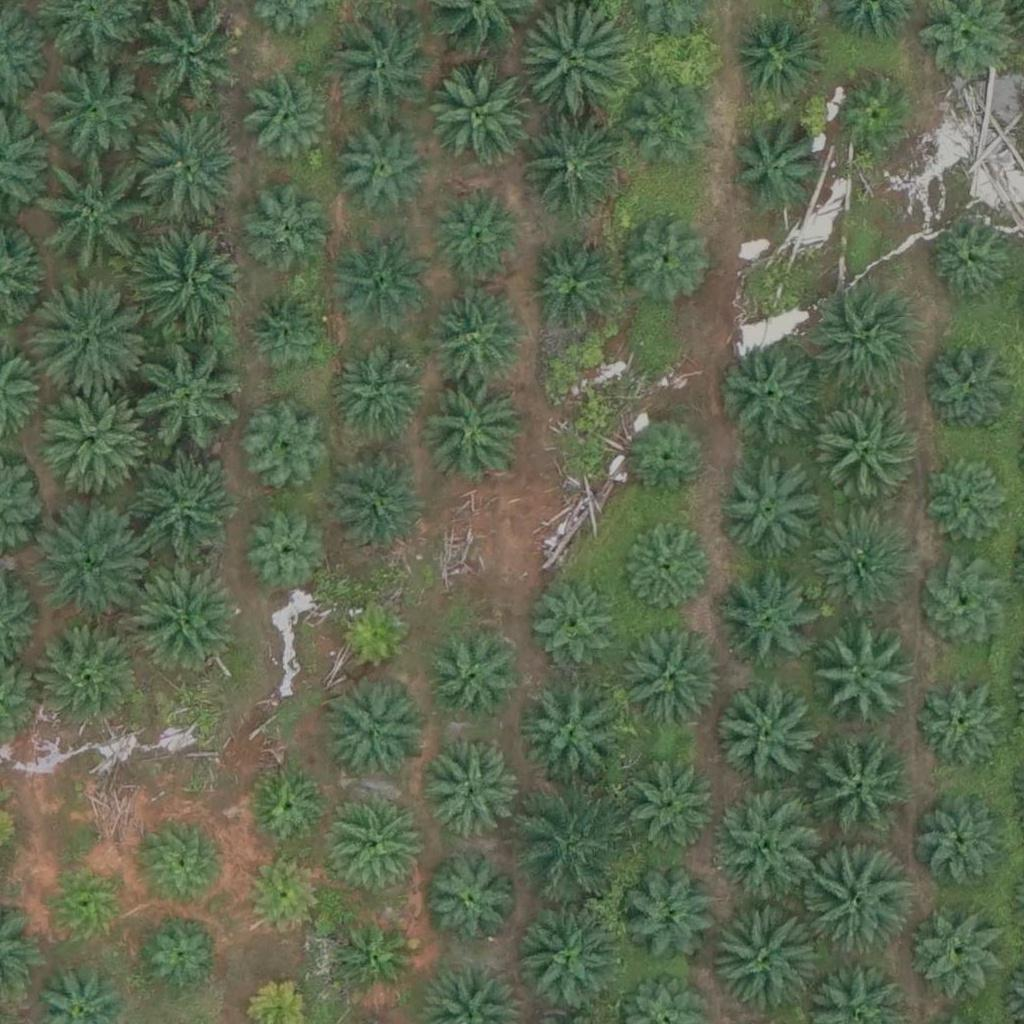Kelapa_Sawit: (37, 288, 150, 402), (710, 793, 823, 906), (513, 674, 626, 787), (514, 797, 627, 910), (135, 110, 248, 223), (131, 229, 244, 342), (124, 345, 237, 458), (803, 847, 915, 961), (123, 460, 235, 574), (127, 564, 239, 678), (29, 621, 141, 735), (432, 59, 544, 173), (803, 736, 915, 849), (805, 288, 917, 401), (518, 120, 630, 233), (37, 510, 149, 623), (37, 383, 149, 496), (44, 158, 156, 271), (522, 6, 634, 119), (322, 10, 434, 123), (35, 46, 147, 159), (814, 626, 914, 727), (721, 567, 821, 668), (620, 864, 720, 965), (427, 291, 527, 392), (423, 383, 523, 484), (424, 623, 524, 724), (424, 733, 524, 834), (417, 856, 517, 957), (328, 339, 428, 440), (329, 448, 429, 549), (322, 685, 422, 786), (321, 793, 421, 894), (728, 118, 828, 219), (811, 513, 911, 613), (815, 389, 915, 489), (723, 345, 823, 445), (713, 469, 813, 569), (714, 682, 814, 782), (522, 907, 622, 1007), (624, 750, 724, 850), (623, 626, 723, 726), (335, 113, 435, 213), (330, 242, 430, 342), (622, 517, 710, 606), (920, 214, 1008, 302), (917, 556, 1005, 644), (917, 802, 1005, 890), (332, 589, 420, 677), (140, 817, 228, 905), (140, 909, 228, 997), (238, 849, 326, 937), (246, 760, 334, 848), (621, 220, 709, 308), (528, 580, 616, 668), (433, 187, 521, 275), (241, 505, 329, 593), (245, 397, 333, 485), (734, 19, 822, 107), (927, 343, 1014, 431), (919, 462, 1006, 550), (916, 680, 1003, 768), (916, 905, 1003, 993), (41, 859, 128, 947), (624, 415, 711, 503), (529, 243, 616, 331), (331, 909, 418, 997), (243, 289, 330, 377), (243, 184, 330, 272), (626, 70, 713, 158), (246, 72, 333, 160), (840, 73, 915, 149)
